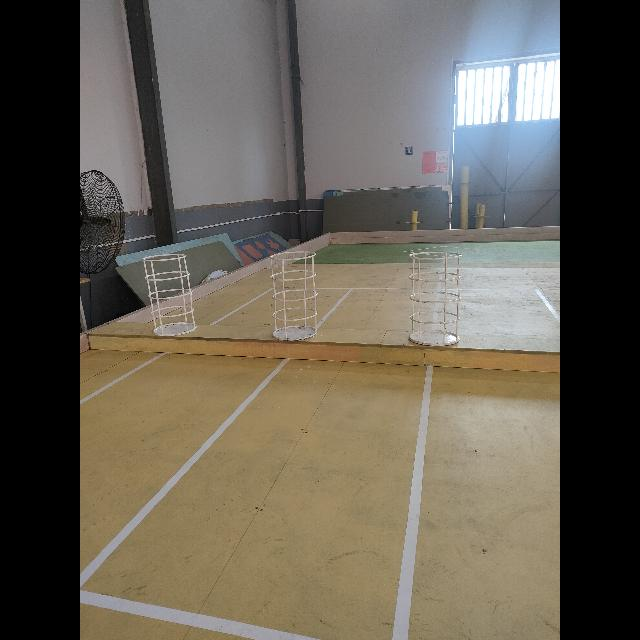S: (407, 249, 463, 351), (143, 252, 201, 336), (272, 251, 324, 343)
